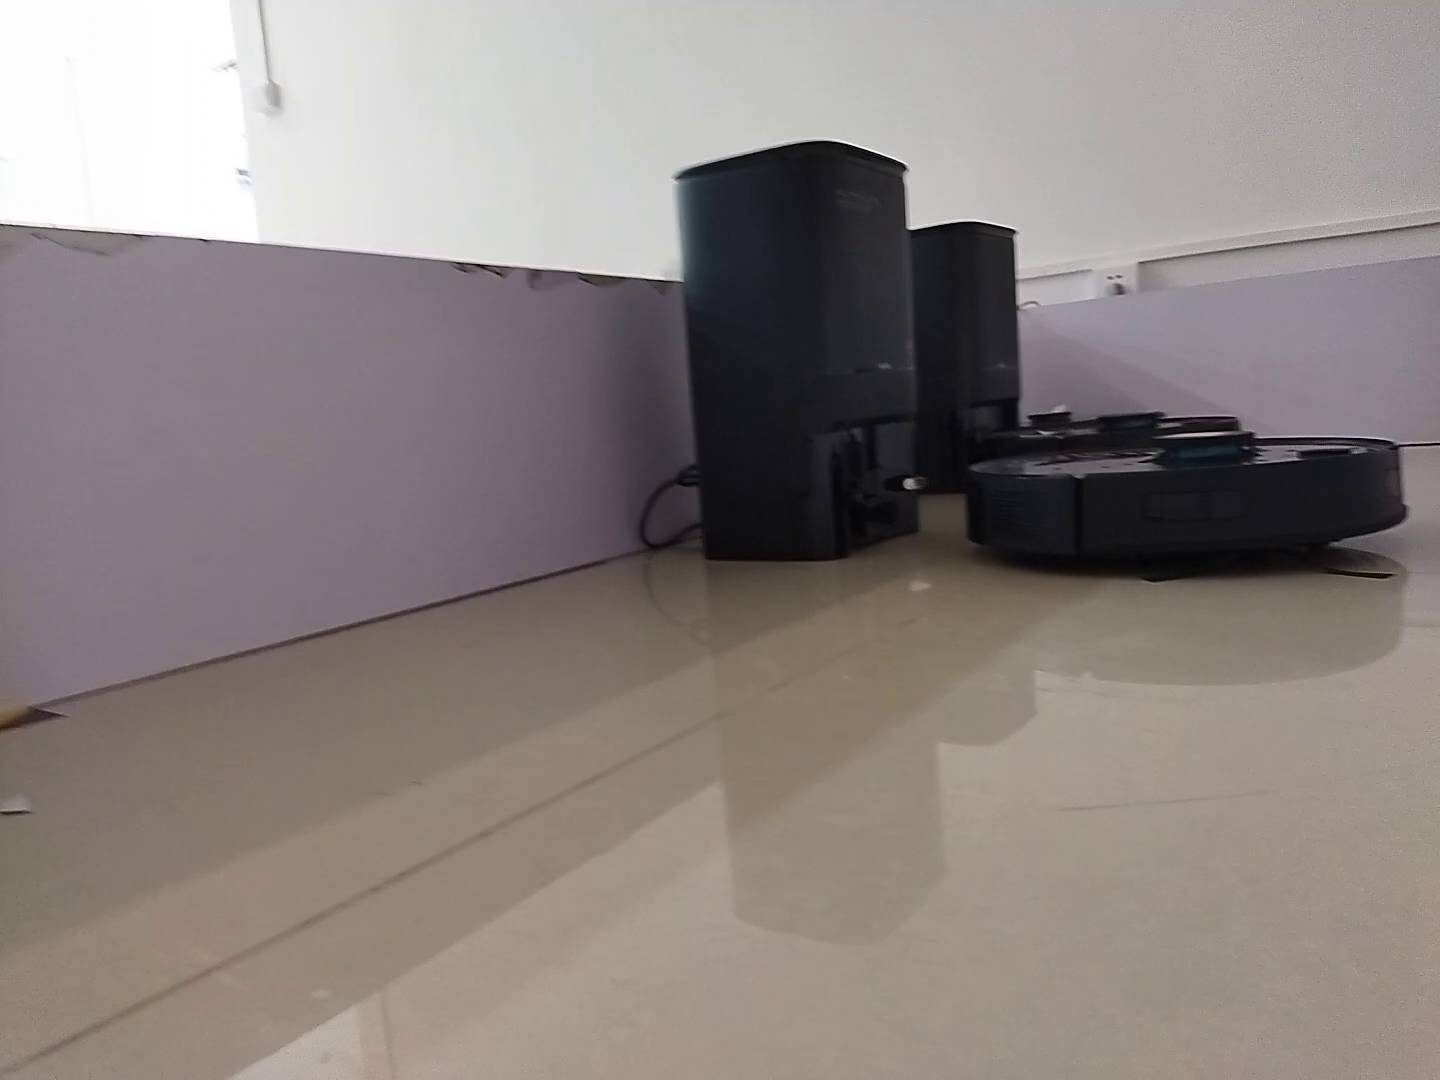dust collecting barrel: (674, 141, 925, 562), (910, 222, 1022, 491)
